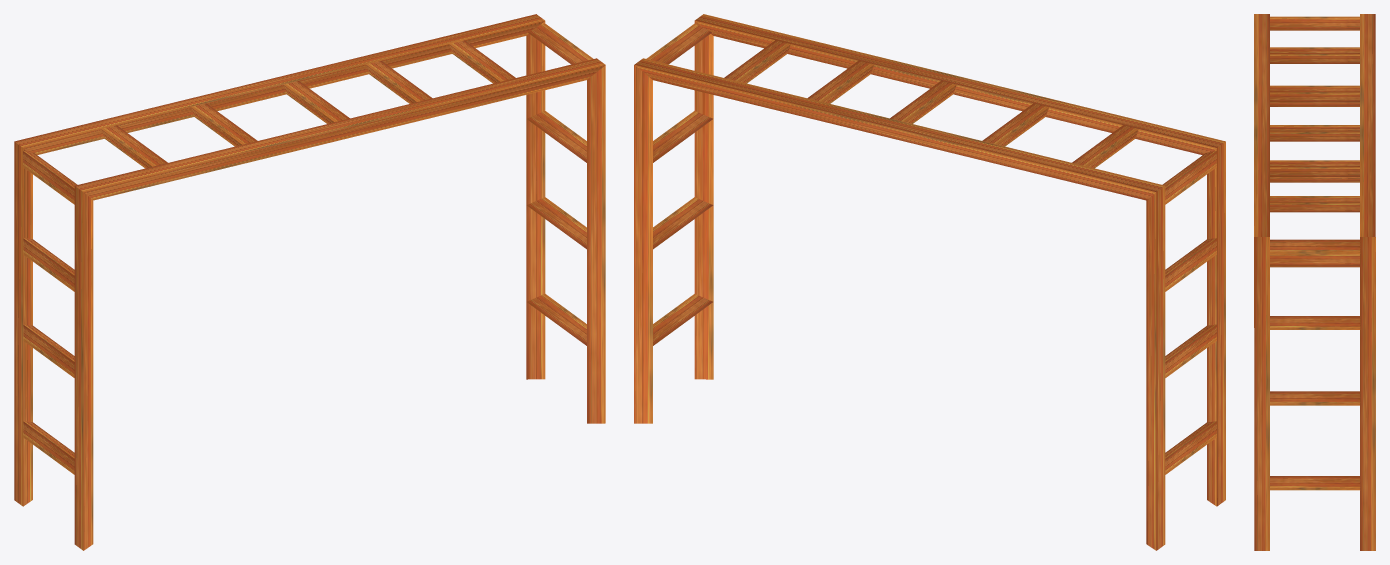
Rendered from PlayGroundMonekybars.glb.
3 views of the same model, side by side, from view 1: azimuth 30°, elevation 25°; view 2: azimuth 150°, elevation 25°; view 3: azimuth 270°, elevation 25° (orthographic). The views are drawn at different scales.
Parts seen in each view (by area): view 1: PlayGroundMonekybars; view 2: PlayGroundMonekybars; view 3: PlayGroundMonekybars.
Boxes of the visible parts, x1,y1,x2,y2 form: PlayGroundMonekybars: [14, 14, 605, 550]; PlayGroundMonekybars: [634, 14, 1225, 550]; PlayGroundMonekybars: [1254, 14, 1375, 550].
Bounding box in the file's own units: 1194 × 784 × 276.
1 material, 1 textured.
